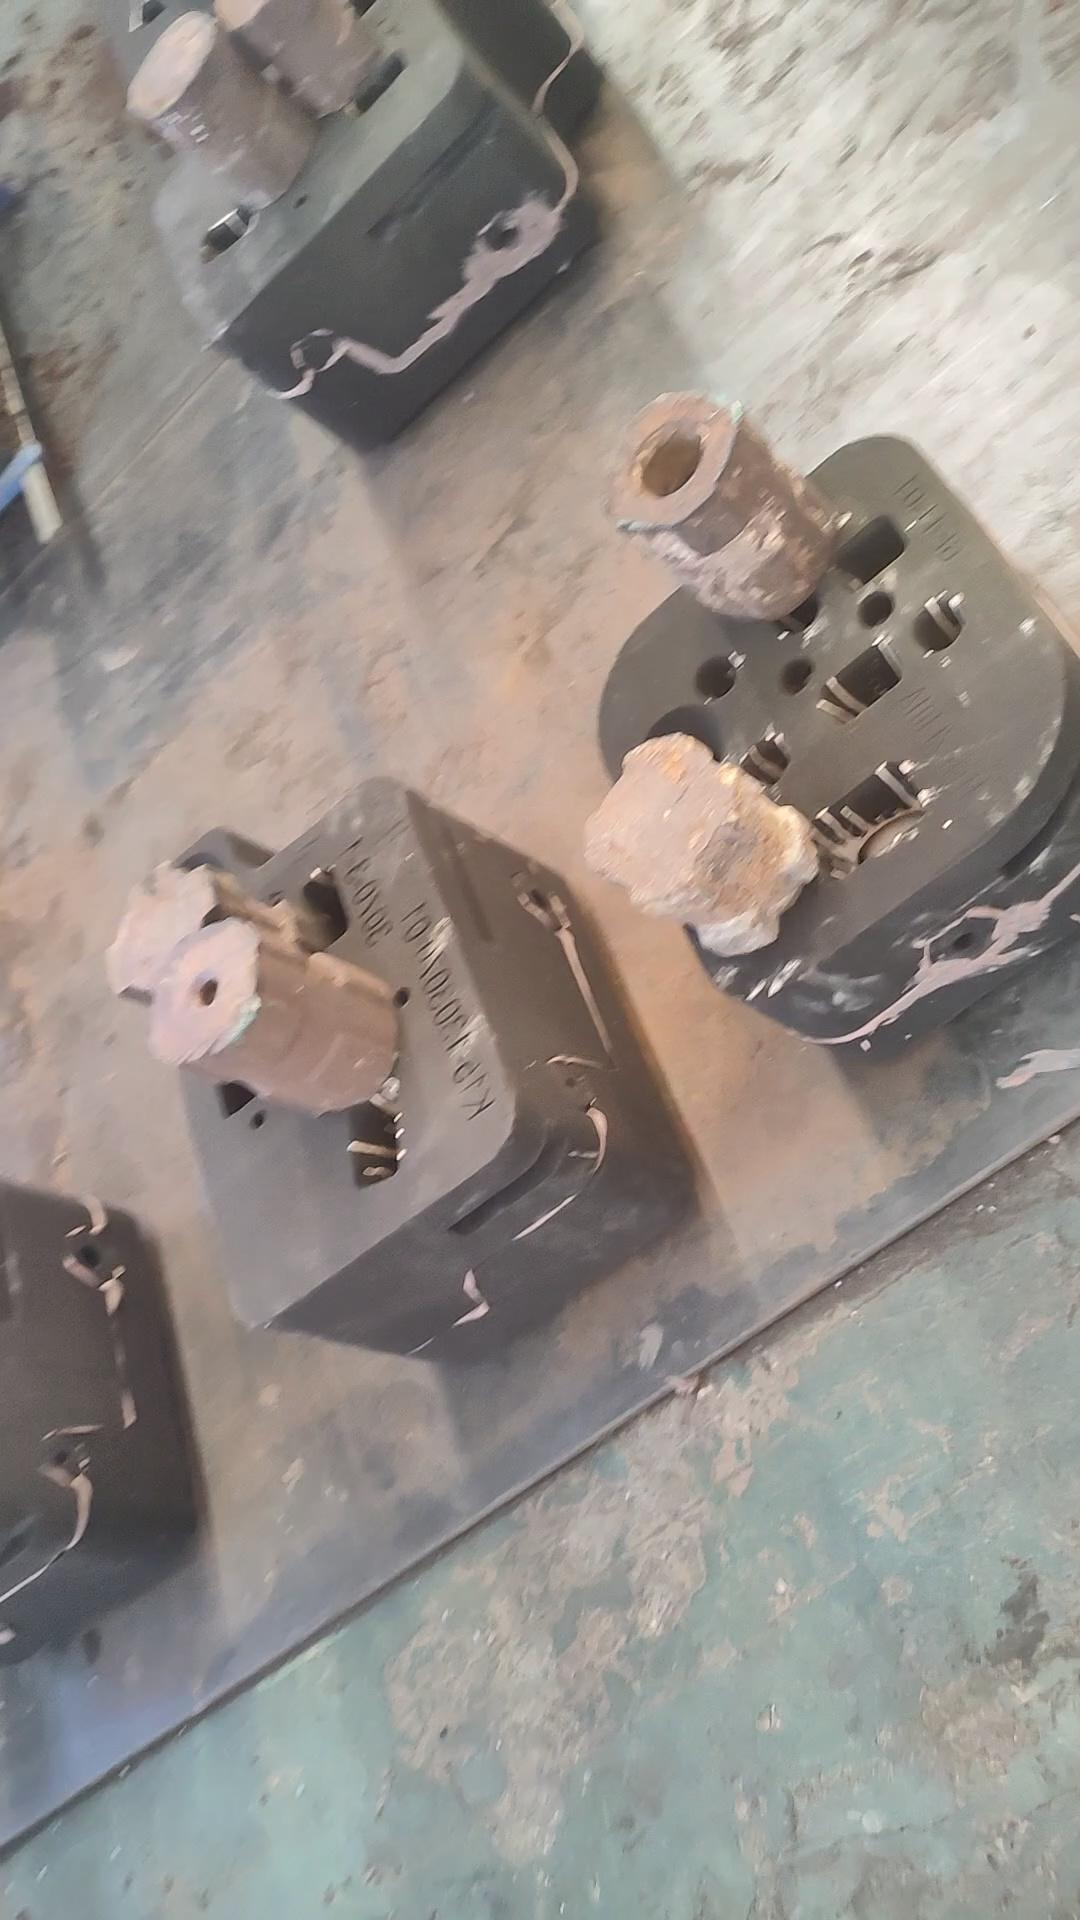pouring hole: (633, 704, 746, 785), (156, 853, 237, 940)
